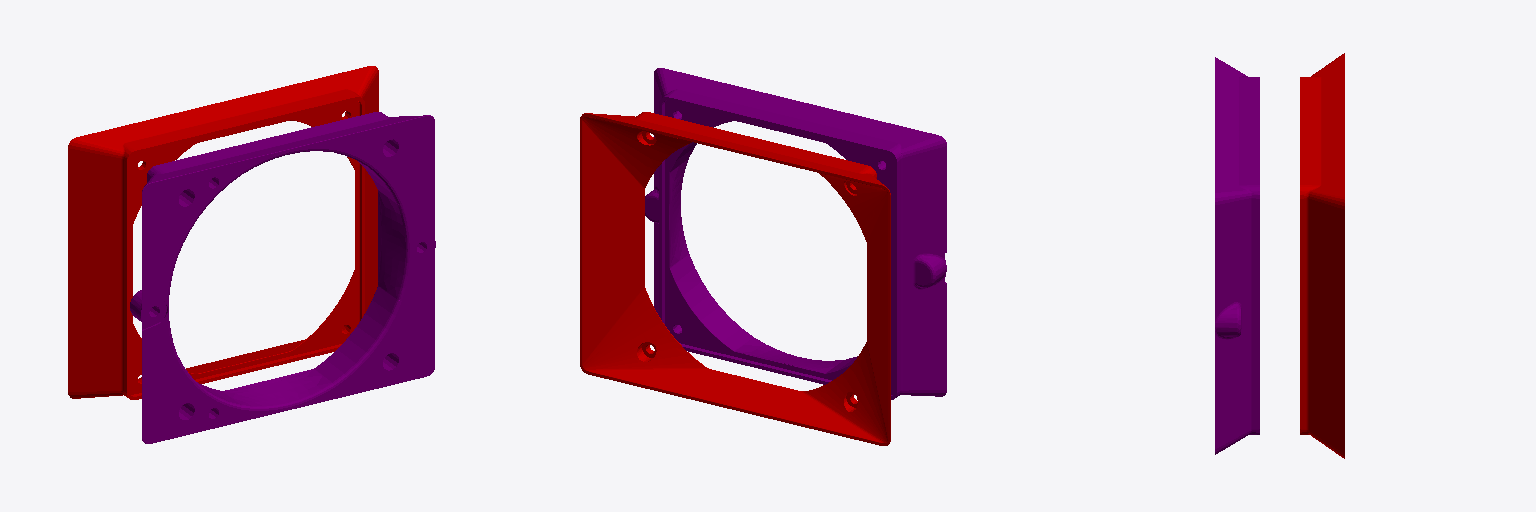
File: nf-a14_ducting.obj
3 renders of one model, left to right at view 1: azimuth 30°, elevation 25°; view 2: azimuth 150°, elevation 25°; view 3: azimuth 270°, elevation 25°, orthographic.
Visible parts, largest first — view 1: exhaust_side, coil_side; view 2: coil_side, exhaust_side; view 3: coil_side, exhaust_side.
Part boxes in pixels (bbox=[...]): exhaust_side: bbox=[130, 112, 435, 443]; coil_side: bbox=[68, 66, 378, 399]; coil_side: bbox=[580, 112, 890, 445]; exhaust_side: bbox=[645, 68, 946, 399]; coil_side: bbox=[1300, 53, 1344, 458]; exhaust_side: bbox=[1215, 57, 1259, 454].
Size of the model in its own units: 189 by 152 by 69.